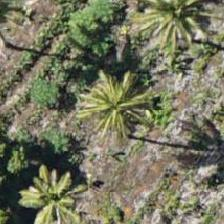coconut_tree: (77, 49, 167, 139), (18, 152, 108, 223), (164, 115, 223, 205), (128, 0, 218, 49)
